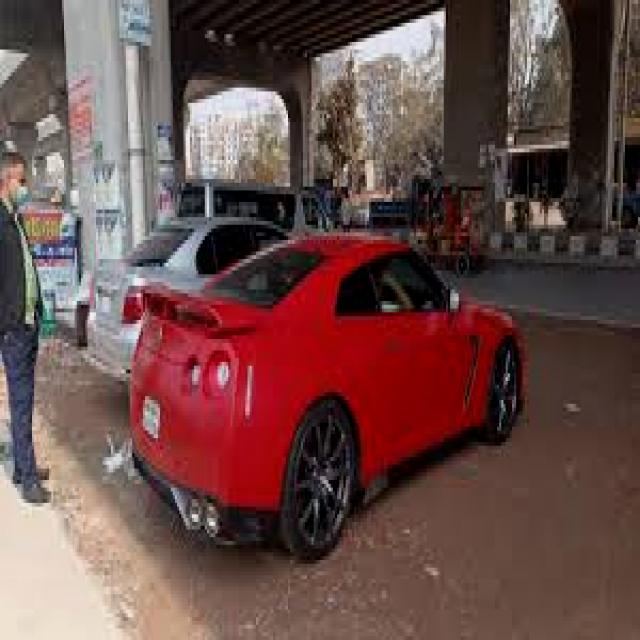red: (126, 212, 534, 540)
